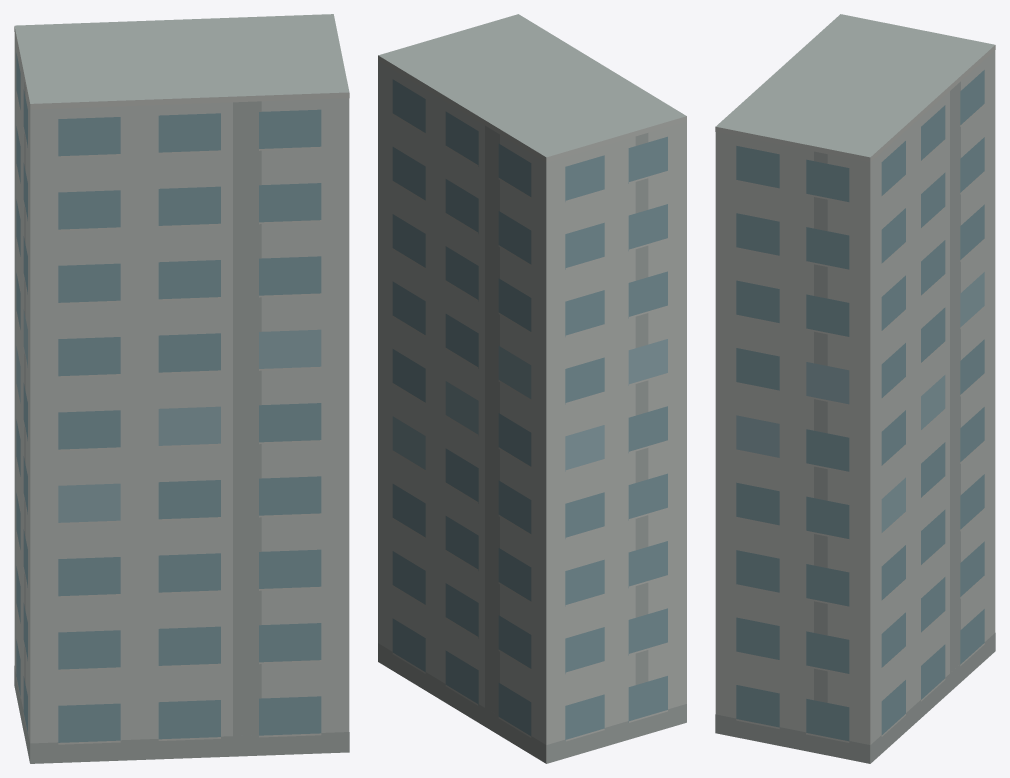
Rendered from residential-4323a739-d996-4d3a-ac50-42f4bfdb6079.glb.
3 views of the same model, side by side, from view 1: azimuth 30°, elevation 25°; view 2: azimuth 150°, elevation 25°; view 3: azimuth 270°, elevation 25° (orthographic). The views are drawn at different scales.
Parts seen in each view (by area): view 1: residential-4323a739-d996-4d3a-ac50-42f4bfdb6079.tmp; view 2: residential-4323a739-d996-4d3a-ac50-42f4bfdb6079.tmp; view 3: residential-4323a739-d996-4d3a-ac50-42f4bfdb6079.tmp.
Boxes of the visible parts, bbox=[...] form: residential-4323a739-d996-4d3a-ac50-42f4bfdb6079.tmp: bbox=[14, 14, 349, 763]; residential-4323a739-d996-4d3a-ac50-42f4bfdb6079.tmp: bbox=[378, 14, 686, 763]; residential-4323a739-d996-4d3a-ac50-42f4bfdb6079.tmp: bbox=[715, 14, 995, 763].
Size of the model in its own units: 14.21 by 28 by 11.72.
